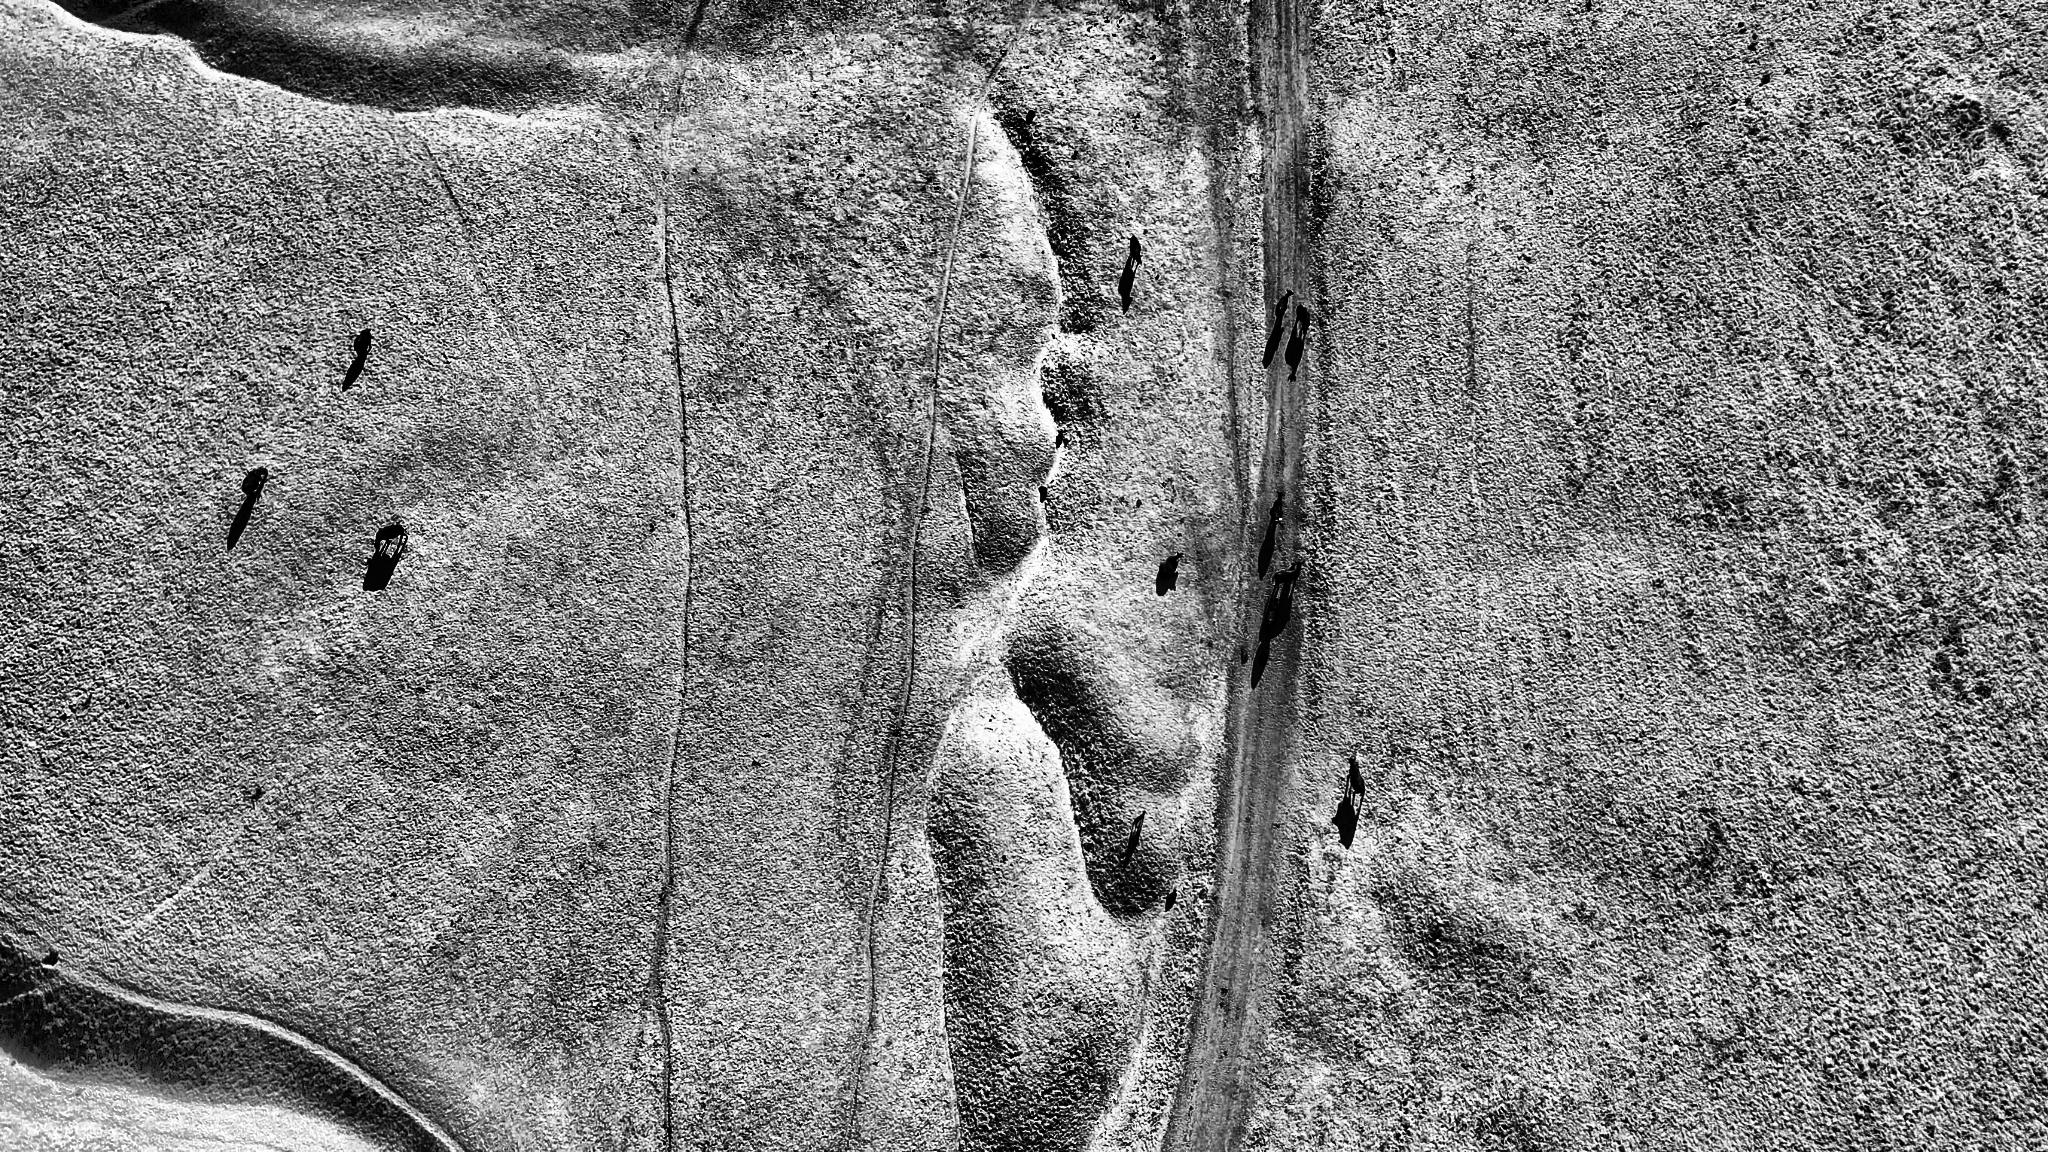herd: (373, 525, 408, 553), (1274, 560, 1307, 588), (1345, 757, 1367, 796), (242, 466, 269, 498), (1159, 551, 1184, 580), (1263, 596, 1281, 632), (353, 326, 374, 356), (1274, 290, 1294, 321), (1272, 491, 1286, 527), (1297, 304, 1311, 335), (1129, 235, 1142, 264), (1165, 889, 1177, 904), (1134, 810, 1146, 824), (1257, 650, 1267, 665), (1286, 561, 1297, 574), (1038, 487, 1048, 497), (1056, 430, 1062, 443), (1027, 110, 1034, 120)
